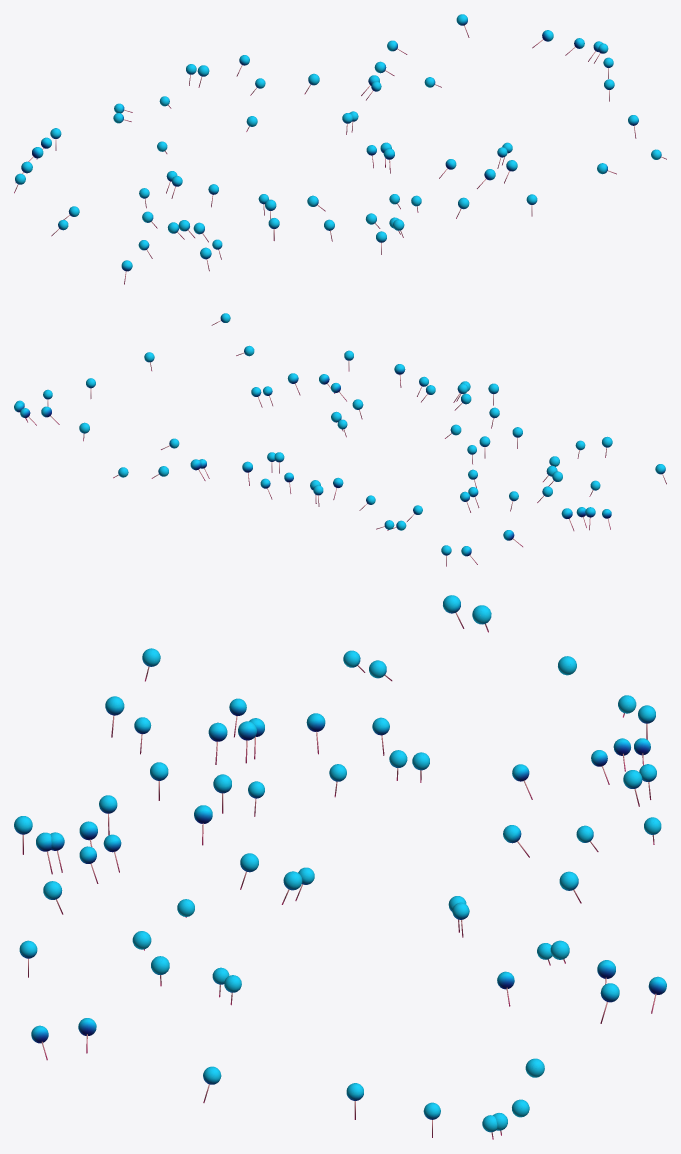
The model's file is btb.fbx.
The picture shows the model from 3 angles, top to bottom: view 1: azimuth 30°, elevation 25°; view 2: azimuth 150°, elevation 25°; view 3: azimuth 270°, elevation 25°; orthographic projection. The views are drawn at different scales.
Parts seen in each view (by area): view 1: treeBlueBunch; view 2: treeBlueBunch; view 3: treeBlueBunch.
Part boxes in pixels (x1,y1,x2,y2): treeBlueBunch: [14, 14, 666, 284]; treeBlueBunch: [14, 313, 666, 566]; treeBlueBunch: [14, 595, 666, 1139].
Bounding box in the file's own units: 27927 × 2808 × 15766.
1 material, 1 textured.
